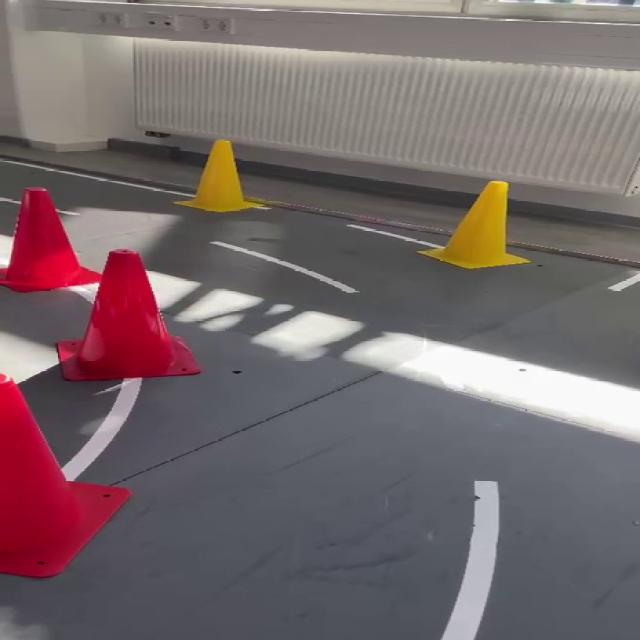Cone-red: (0, 374, 130, 577), (57, 249, 199, 380), (0, 188, 99, 292)
Cones-yellow: (419, 181, 530, 268), (175, 140, 268, 212)
